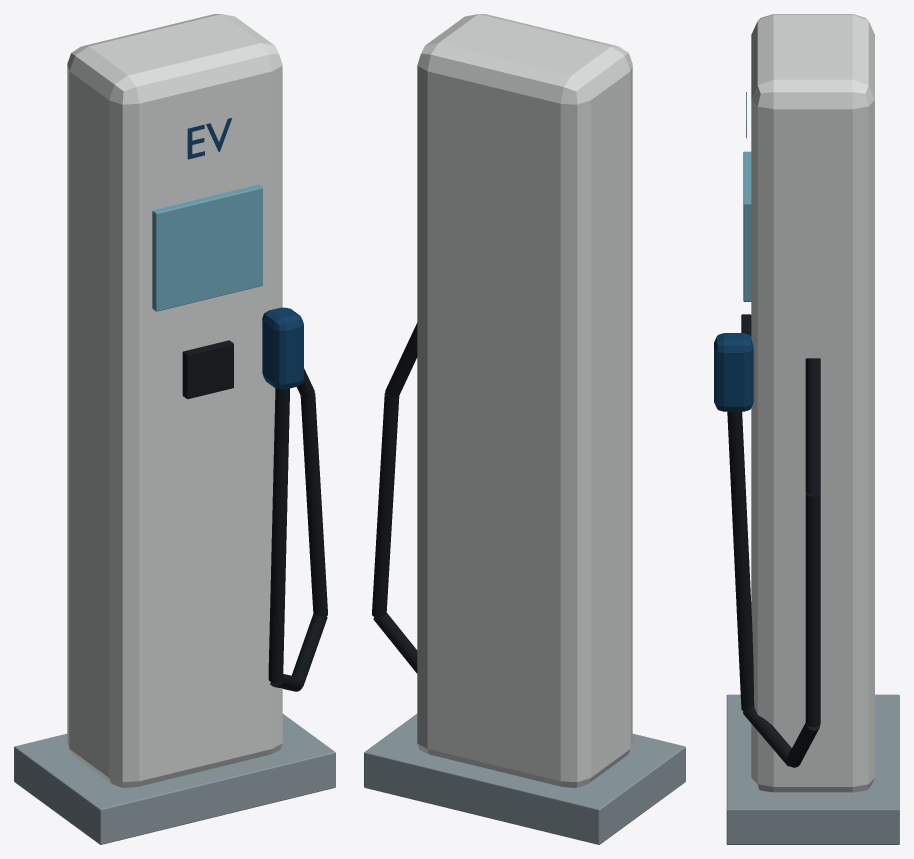
3 renders of one model, left to right at view 1: azimuth 30°, elevation 25°; view 2: azimuth 150°, elevation 25°; view 3: azimuth 270°, elevation 25°, orthographic.
Parts seen in each view (by area): view 1: BODY, BASE, SCREEN, CABLE, CABLE.002, PLUG, READER, CABLE.003, CHARGE_Label; view 2: BODY, BASE, CABLE.002, CABLE.001, CABLE.003; view 3: BODY, BASE, CABLE, CABLE.002, PLUG, CABLE.001, SCREEN, CABLE.004, CABLE.003.
Part boxes in pixels (bbox=[...]): BODY: bbox=[67, 14, 282, 787]; BASE: bbox=[14, 714, 335, 844]; SCREEN: bbox=[152, 184, 262, 311]; CABLE: bbox=[268, 388, 289, 682]; CABLE.002: bbox=[300, 392, 327, 616]; PLUG: bbox=[262, 307, 303, 389]; READER: bbox=[182, 340, 233, 399]; CABLE.003: bbox=[291, 614, 327, 686]; CHARGE_Label: bbox=[187, 118, 232, 159]; BODY: bbox=[417, 14, 632, 787]; BASE: bbox=[364, 714, 685, 844]; CABLE.002: bbox=[372, 392, 399, 617]; CABLE.001: bbox=[385, 323, 417, 397]; CABLE.003: bbox=[373, 613, 417, 673]; BODY: bbox=[751, 14, 874, 792]; BASE: bbox=[726, 694, 899, 844]; CABLE: bbox=[727, 411, 754, 711]; CABLE.002: bbox=[805, 493, 820, 726]; PLUG: bbox=[714, 333, 753, 411]; CABLE.001: bbox=[805, 358, 820, 493]; SCREEN: bbox=[743, 151, 751, 301]; CABLE.004: bbox=[743, 707, 791, 766]; CABLE.003: bbox=[787, 723, 820, 767].
Bounding box in the file's own units: 0.6299 × 1.65 × 0.375.
